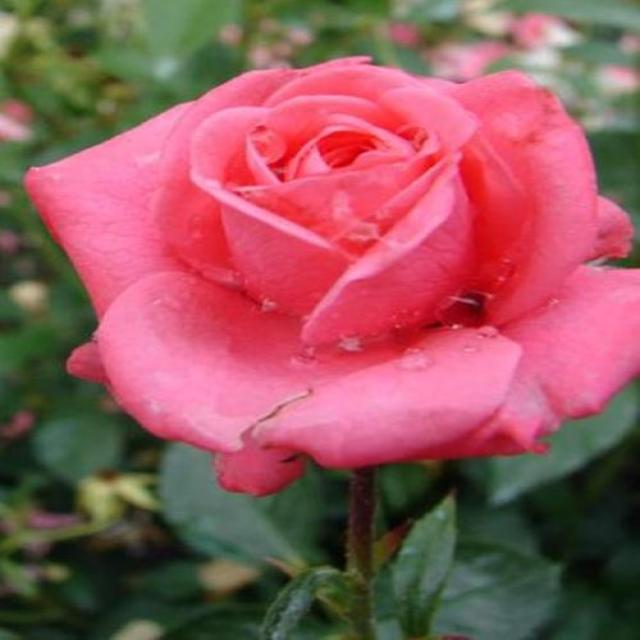rose: (29, 57, 640, 513)
